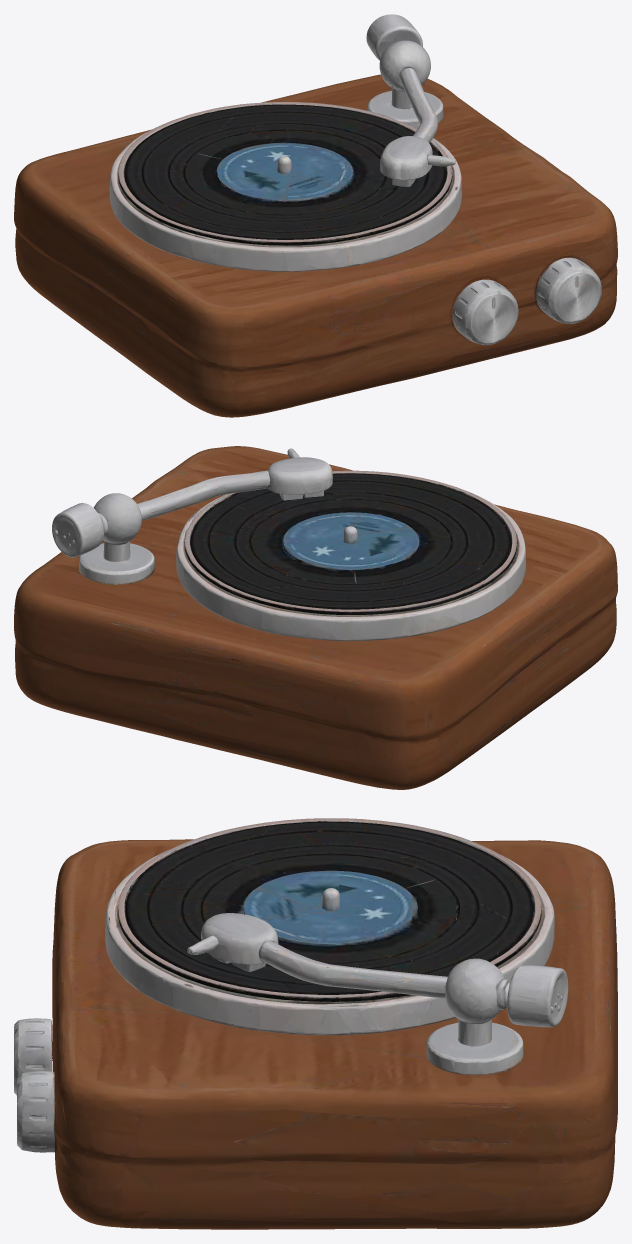
File: turntable.glb
3 views of the same model, one above another, from view 1: azimuth 30°, elevation 25°; view 2: azimuth 150°, elevation 25°; view 3: azimuth 270°, elevation 25° (orthographic). The views are drawn at different scales.
Parts seen in each view (by area): view 1: Mesh_0; view 2: Mesh_0; view 3: Mesh_0.
Part boxes in pixels (box(x1,y1,x2,y2)): Mesh_0: box(14, 14, 617, 417); Mesh_0: box(14, 446, 617, 789); Mesh_0: box(14, 818, 617, 1229).
Size of the model in its own units: 1.9 by 0.7916 by 1.83.
Materials: 1 (1 with a texture image).
